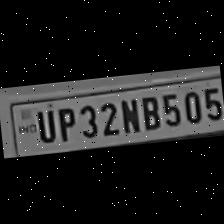0: (179, 86, 203, 124)
2: (95, 98, 120, 138)
3: (74, 100, 100, 140)
5: (158, 88, 182, 130), (200, 83, 224, 124)
B: (137, 92, 161, 132)
N: (116, 95, 141, 136)
P: (54, 104, 78, 144)
U: (31, 106, 57, 144)
